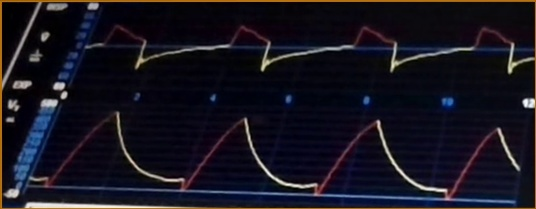Flow: (89, 18, 536, 81)
Leakage Volume: (31, 107, 520, 203)
